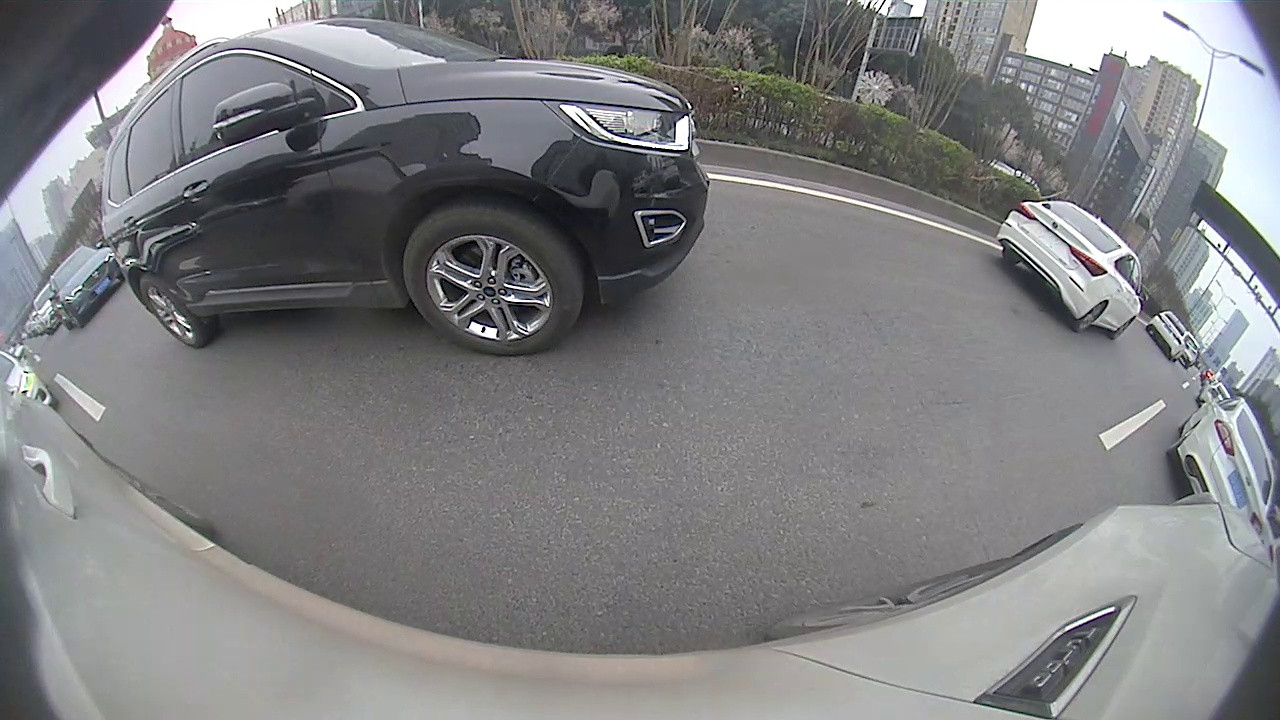car: (101, 18, 710, 359), (997, 198, 1150, 343), (1167, 386, 1277, 516), (47, 245, 124, 331), (1146, 311, 1191, 365)
front: (401, 207, 580, 354)
rear: (140, 270, 203, 346), (1077, 300, 1109, 331)
